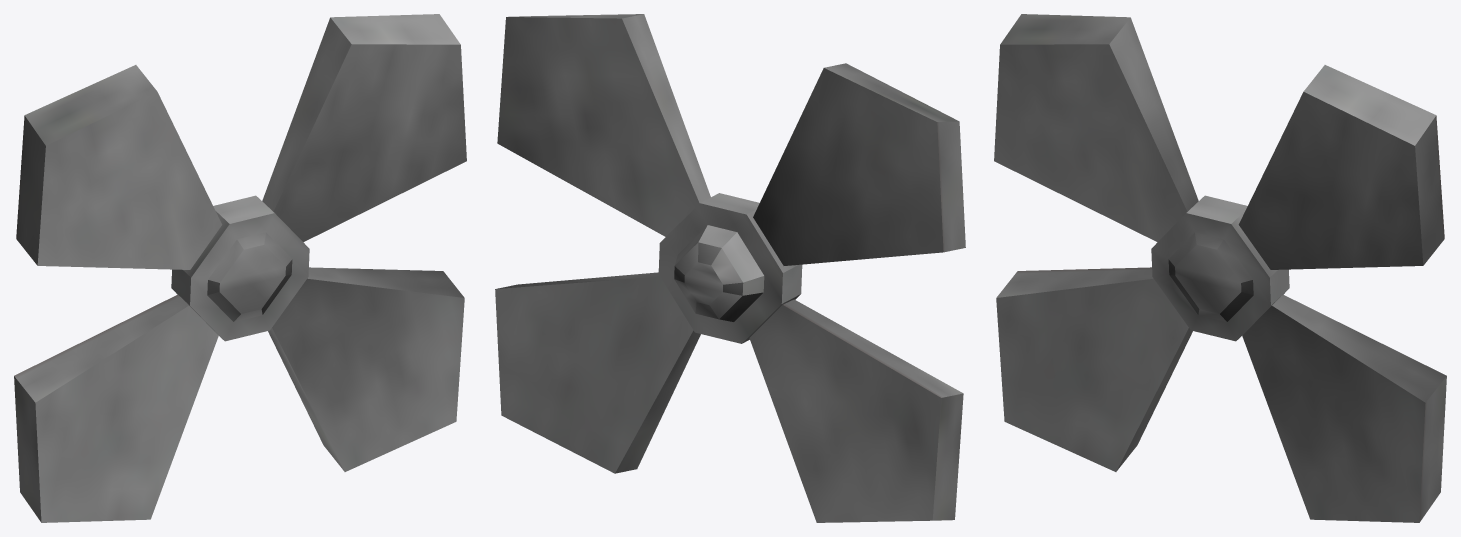
Rendered from MESH_HELICE_PROP.fbx.
3 renders of one model, left to right at view 1: azimuth 30°, elevation 25°; view 2: azimuth 150°, elevation 25°; view 3: azimuth 330°, elevation 25°, orthographic. The views are drawn at different scales.
Visible parts, largest first — view 1: MESH_HELICE_PROP; view 2: MESH_HELICE_PROP; view 3: MESH_HELICE_PROP.
Boxes of the visible parts, x1,y1,x2,y2 form: MESH_HELICE_PROP: [14, 14, 466, 522]; MESH_HELICE_PROP: [495, 14, 965, 522]; MESH_HELICE_PROP: [994, 14, 1446, 522].
Bounding box in the file's own units: 0.2 × 0.1978 × 0.0327.
